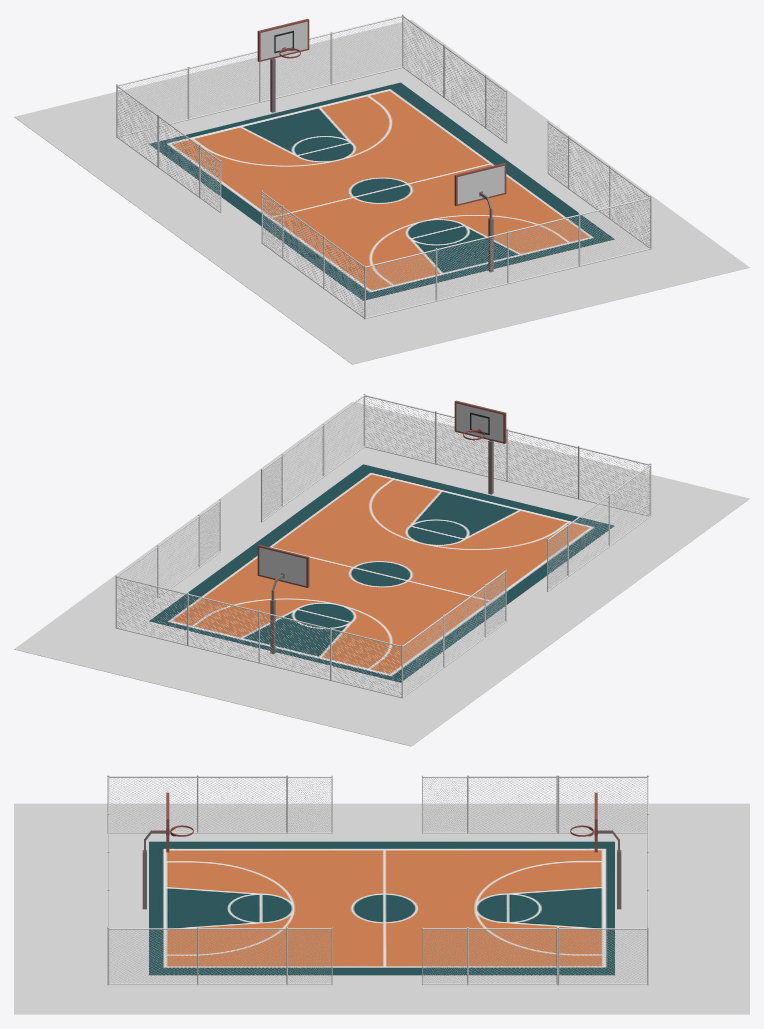
Rendered from BasketField.fbx.
The picture shows the model from 3 angles, top to bottom: view 1: azimuth 30°, elevation 25°; view 2: azimuth 150°, elevation 25°; view 3: azimuth 270°, elevation 25°; orthographic projection. The views are drawn at different scales.
Parts seen in each view (by area): view 1: Court.005, Court.001, Basketball_Stand.001, Full Chainlink.015, Full Chainlink.016, Full Chainlink.013, Full Chainlink.017, Full Chainlink.018, Full Chainlink.019, Full Chainlink.012, Full Chainlink.006, Full Chainlink.010 (+11 smaller); view 2: Court.005, Court.001, Basketball_Stand.001, Full Chainlink.019, Full Chainlink.017, Full Chainlink.014, Full Chainlink.012, Full Chainlink.013, Full Chainlink.015, Full Chainlink.016, Full Chainlink.007, Full Chainlink.011 (+11 smaller); view 3: Court.005, Court.001, Full Chainlink.010, Full Chainlink.007, Full Chainlink.001, Full Chainlink.004, Full Chainlink.005, Full Chainlink, Full Chainlink.006, Full Chainlink.011, Full Chainlink.008, Full Chainlink.009 (+3 smaller).
Part boxes in pixels (x1,y1,x2,y2): Court.005: (14, 20, 749, 364); Court.001: (149, 82, 614, 300); Basketball_Stand.001: (257, 18, 506, 272); Full Chainlink.015: (331, 14, 403, 84); Full Chainlink.016: (365, 248, 436, 318); Full Chainlink.013: (189, 51, 260, 119); Full Chainlink.017: (436, 230, 508, 301); Full Chainlink.018: (508, 213, 579, 283); Full Chainlink.019: (579, 196, 650, 266); Full Chainlink.012: (117, 66, 188, 136); Full Chainlink.006: (323, 236, 365, 319); Full Chainlink.010: (157, 114, 199, 198); Court.005: (14, 401, 749, 746); Court.001: (149, 464, 614, 682); Basketball_Stand.001: (257, 400, 506, 653); Full Chainlink.019: (363, 393, 435, 464); Full Chainlink.017: (507, 428, 578, 498); Full Chainlink.014: (187, 592, 258, 663); Full Chainlink.012: (330, 627, 401, 698); Full Chainlink.013: (259, 610, 330, 680); Full Chainlink.015: (116, 575, 187, 645); Full Chainlink.016: (578, 446, 650, 516); Full Chainlink.007: (567, 495, 609, 576); Full Chainlink.011: (402, 614, 444, 698); Court.005: (14, 803, 749, 1014); Court.001: (149, 841, 614, 975); Full Chainlink.010: (467, 775, 557, 833); Full Chainlink.007: (197, 775, 287, 833); Full Chainlink.001: (197, 927, 287, 985); Full Chainlink.004: (467, 927, 557, 985); Full Chainlink.005: (558, 927, 648, 985); Full Chainlink: (107, 927, 198, 985); Full Chainlink.006: (107, 775, 198, 833); Full Chainlink.011: (558, 775, 648, 833); Full Chainlink.008: (287, 775, 332, 833); Full Chainlink.009: (422, 775, 467, 833).
Size of the model in its own units: 1929 by 441 by 2843.
